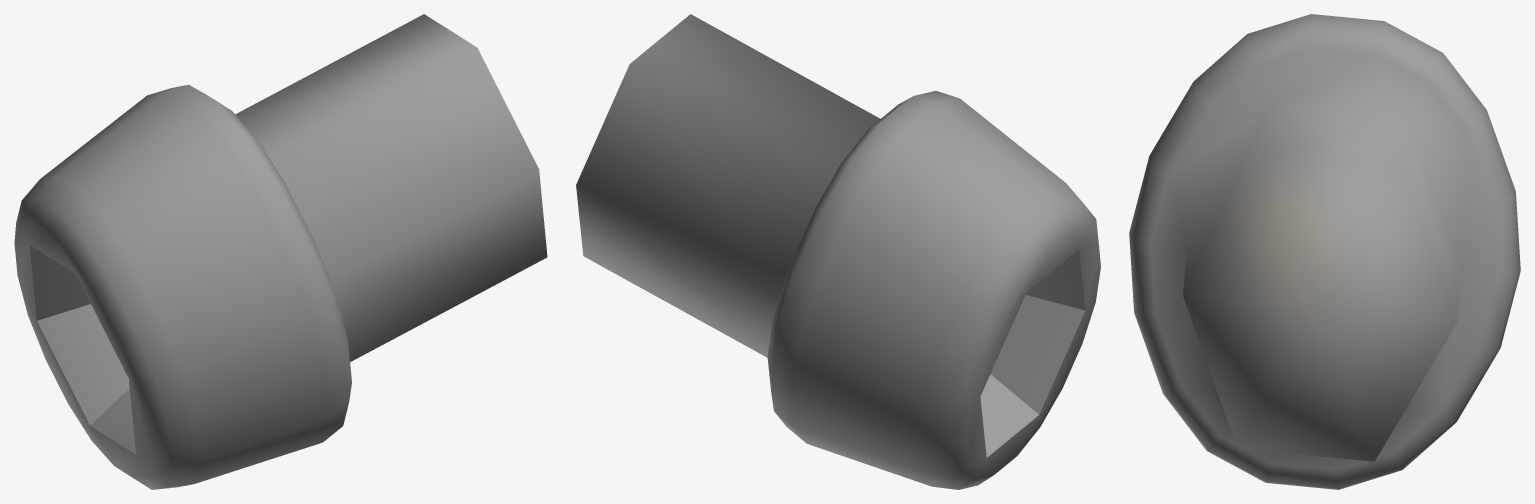
3 views of the same model, side by side, from view 1: azimuth 30°, elevation 25°; view 2: azimuth 150°, elevation 25°; view 3: azimuth 270°, elevation 25° (orthographic). The views are drawn at different scales.
Parts seen in each view (by area): view 1: Cylinder014_Material_0_0; view 2: Cylinder014_Material_0_0; view 3: Cylinder014_Material_0_0.
Boxes of the visible parts, x1,y1,x2,y2 form: Cylinder014_Material_0_0: [14, 14, 547, 489]; Cylinder014_Material_0_0: [576, 14, 1100, 489]; Cylinder014_Material_0_0: [1129, 14, 1520, 489].
Size of the model in its own units: 0.0542 by 0.0417 by 0.0329.
Materials: 1 (1 with a texture image).
